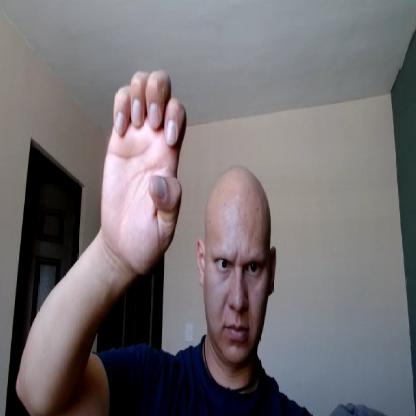E: (100, 67, 187, 276)
